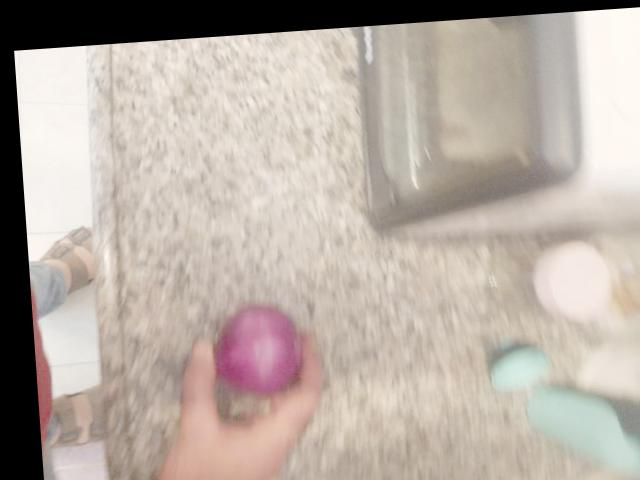onion: (270, 23, 388, 149)
